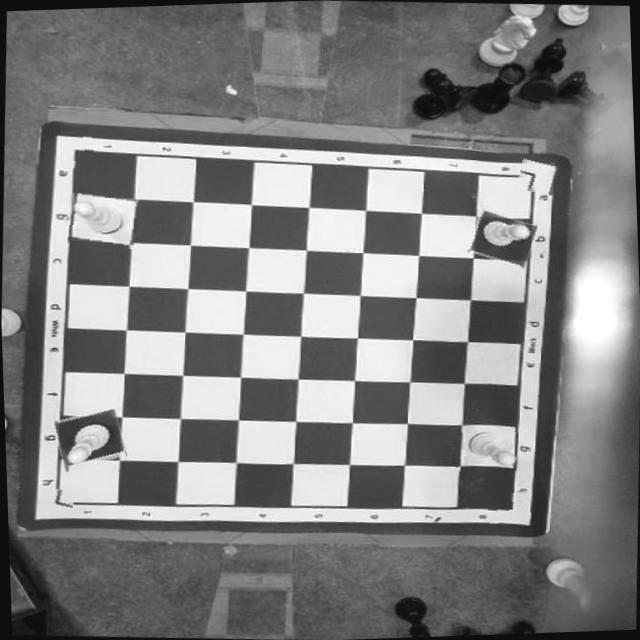chess-table-corners: (516, 156, 557, 194), (485, 492, 530, 524), (58, 136, 92, 168), (42, 488, 73, 516)
